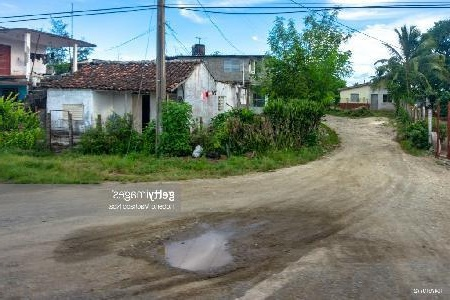pothole: (161, 224, 238, 273)
